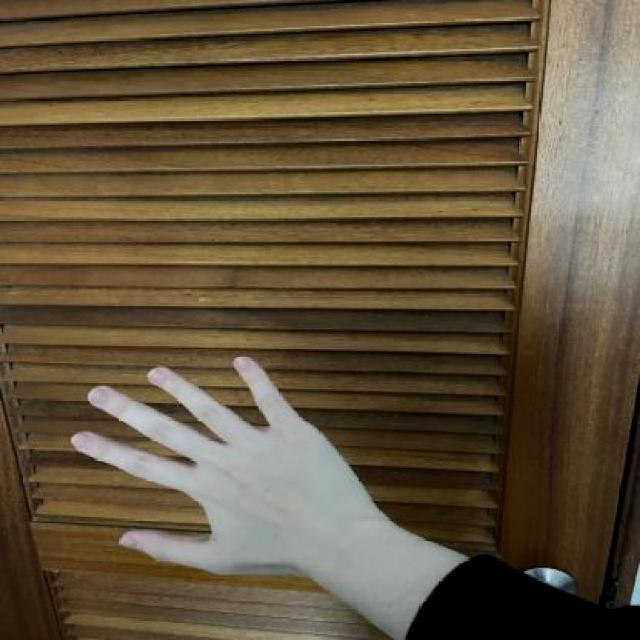no_glove: (66, 342, 392, 587)
